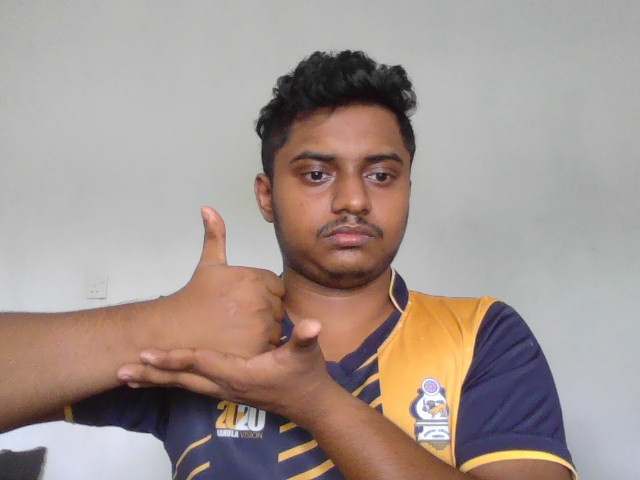Help: (114, 201, 328, 415)
